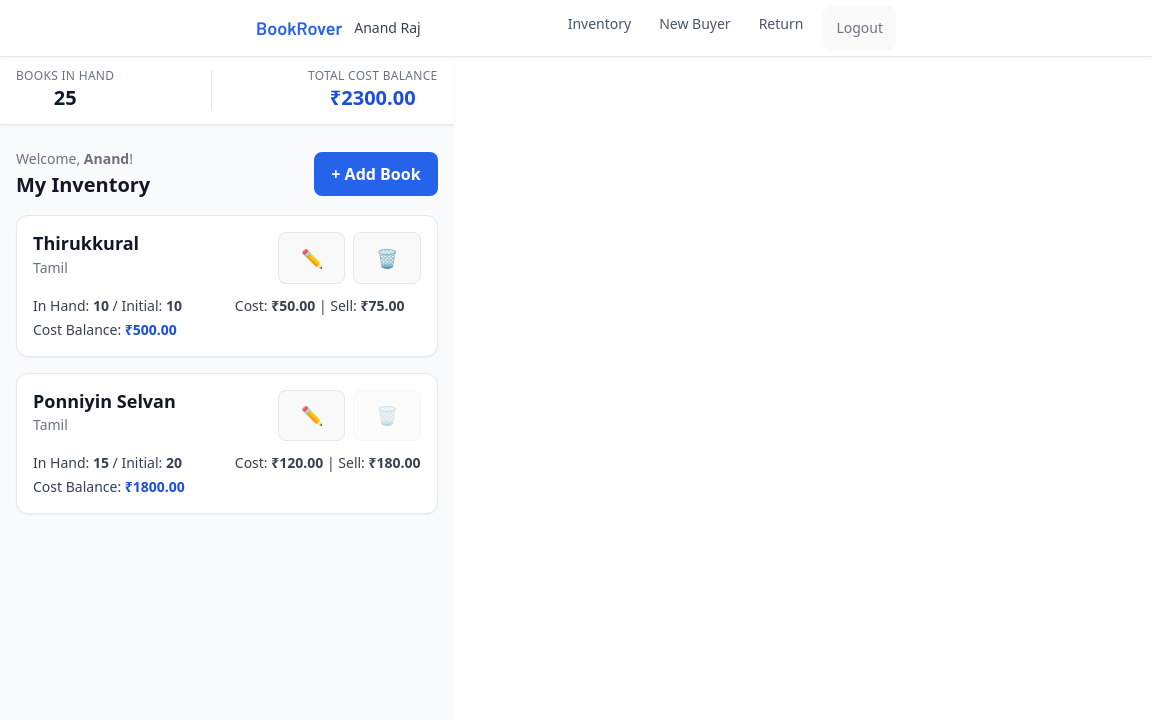
Test case: InventoryPage › opens edit form pre-filled with book data when edit button is clicked
The width and height of the screenshot is (1152, 720).
Click the button named "Edit".
click(312, 258)  # box x1=278 y1=232 x2=345 y2=284
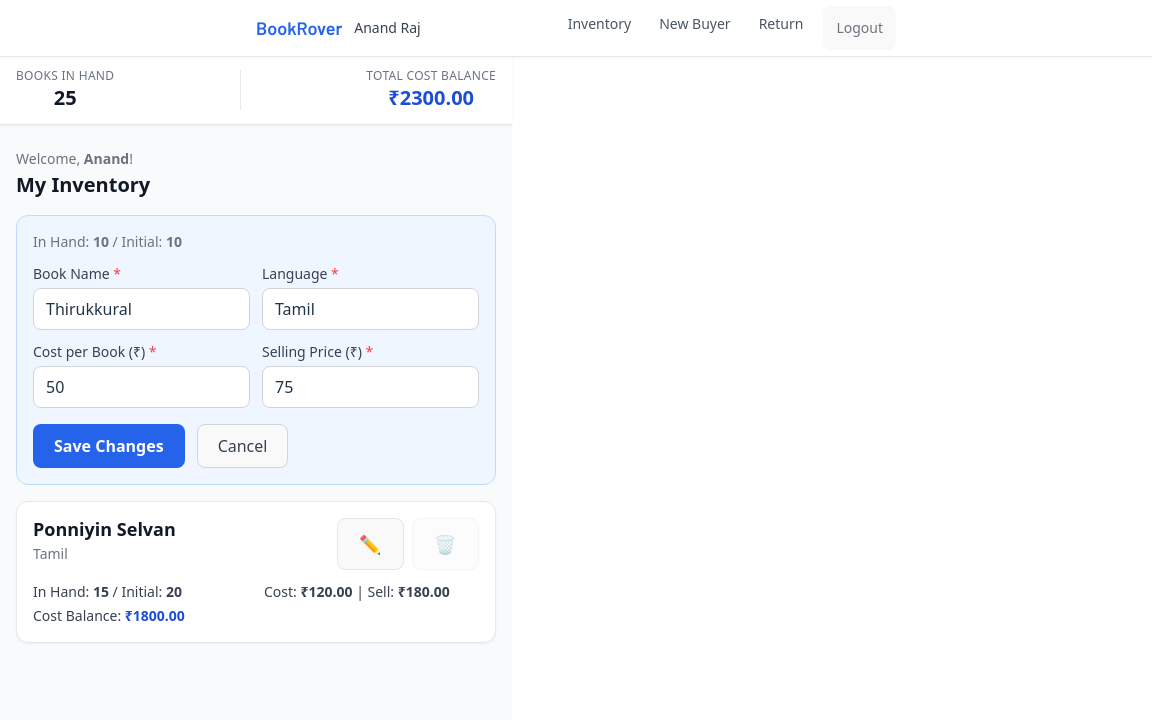
Check: the button "Save Changes" is shown, box x1=33 y1=424 x2=185 y2=468
Check: the field labelled "Book Name *" holds "Thirukkural", box x1=33 y1=288 x2=250 y2=330
Check: the field labelled "Language *" holds "Tamil", box x1=262 y1=288 x2=479 y2=330
